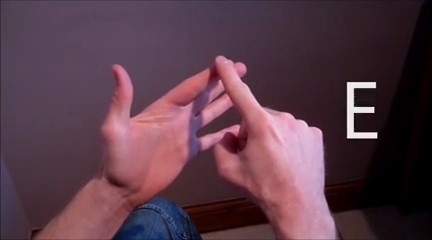E: (93, 48, 333, 219)
